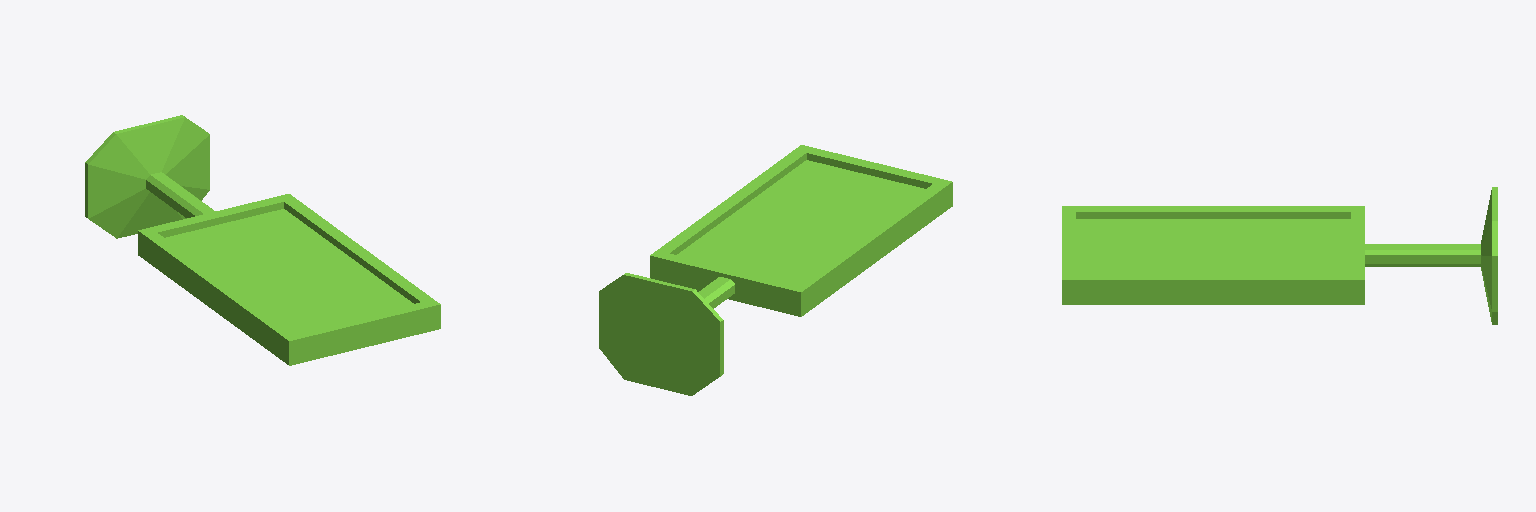
Rendered from ad_sign1.obj.
The picture shows the model from 3 angles: view 1: azimuth 30°, elevation 25°; view 2: azimuth 150°, elevation 25°; view 3: azimuth 270°, elevation 25°; orthographic projection.
Visible parts, largest first — view 1: Box01; view 2: Box01; view 3: Box01.
Part boxes in pixels (left/top/right/bottom): Box01: left=85, top=115, right=440, bottom=365; Box01: left=599, top=145, right=952, bottom=395; Box01: left=1062, top=187, right=1497, bottom=324.
Bounding box in the file's own units: 0.3316 × 0.2195 × 0.8278.